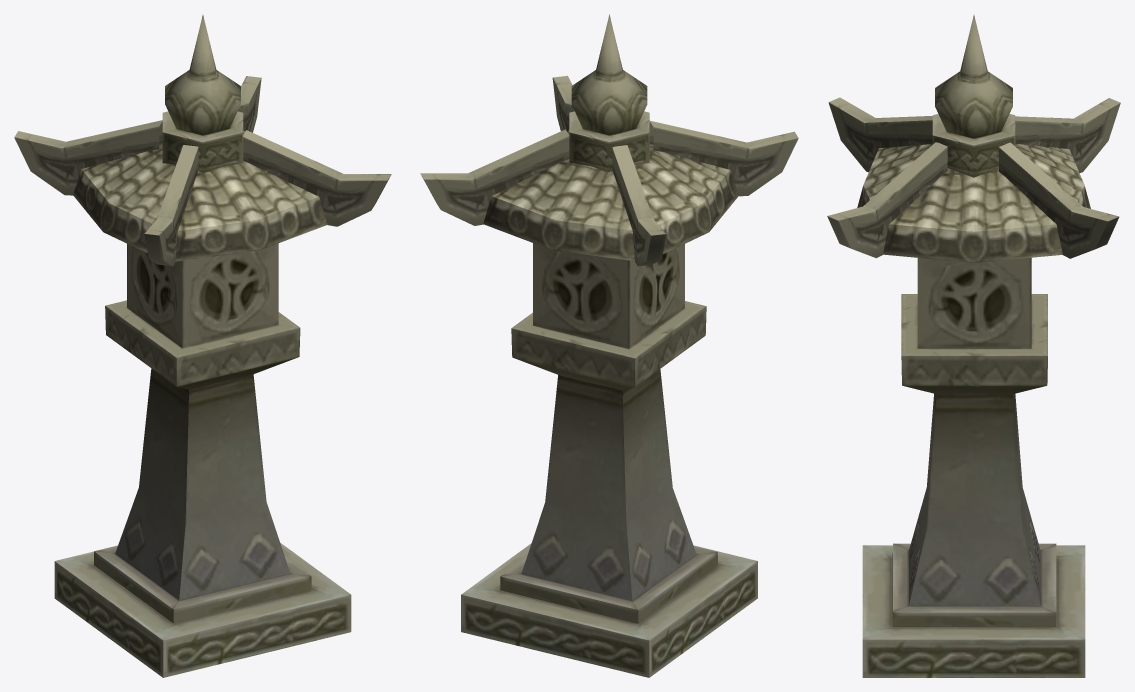
The model's file is szc_object_tanwei08a.FBX.
The picture shows the model from 3 angles, left to right: view 1: azimuth 30°, elevation 25°; view 2: azimuth 150°, elevation 25°; view 3: azimuth 270°, elevation 25°; orthographic projection. The views are drawn at different scales.
Parts seen in each view (by area): view 1: szc_object_tanwei08a; view 2: szc_object_tanwei08a; view 3: szc_object_tanwei08a.
Boxes of the visible parts, x1,y1,x2,y2 form: szc_object_tanwei08a: [14, 15, 391, 677]; szc_object_tanwei08a: [420, 14, 798, 677]; szc_object_tanwei08a: [827, 15, 1120, 677].
Bounding box in the file's own units: 96.73 × 224 × 96.73.
